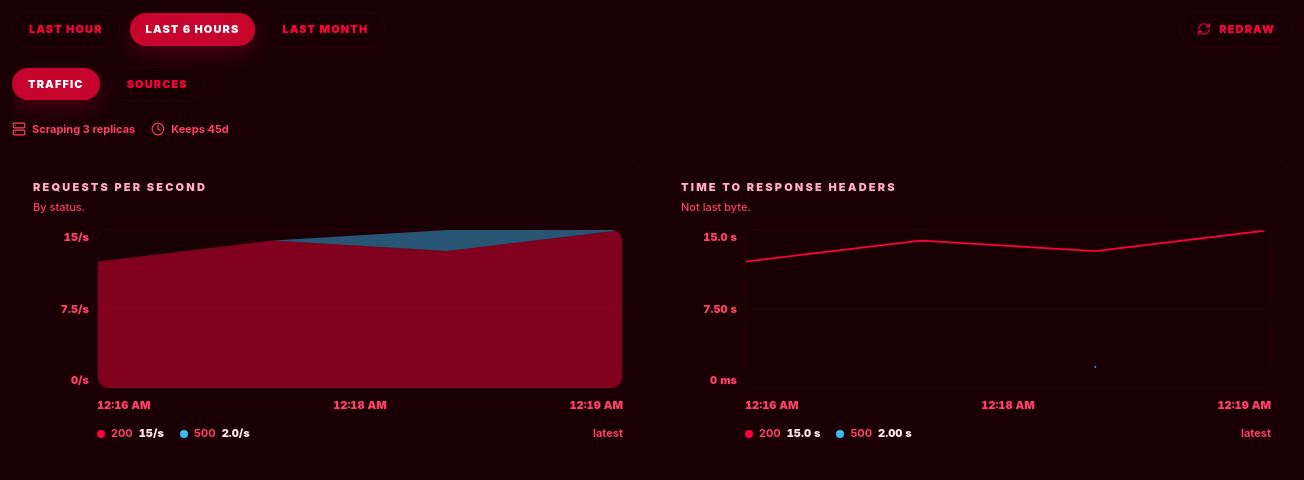
it: MetricsHistory › switching group fetches that group instead
Click the button "Sources": (157,84) 110,66 -> 205,101
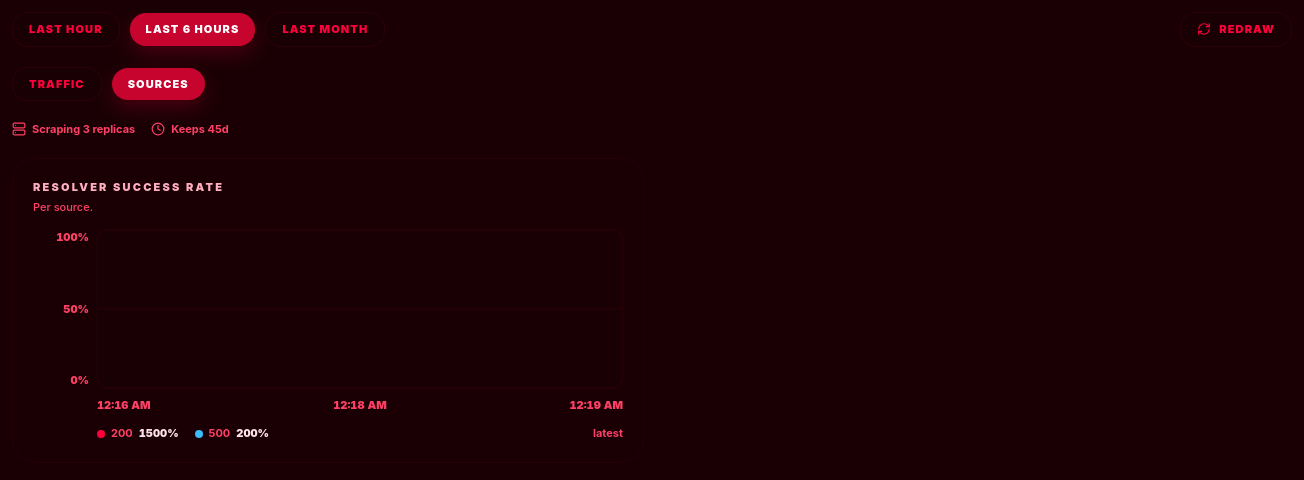
Now the text "Resolver success rate" is shown, box 33,180 -> 224,194
